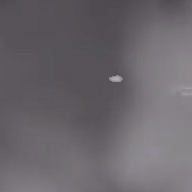Target: (109, 75, 123, 82)
